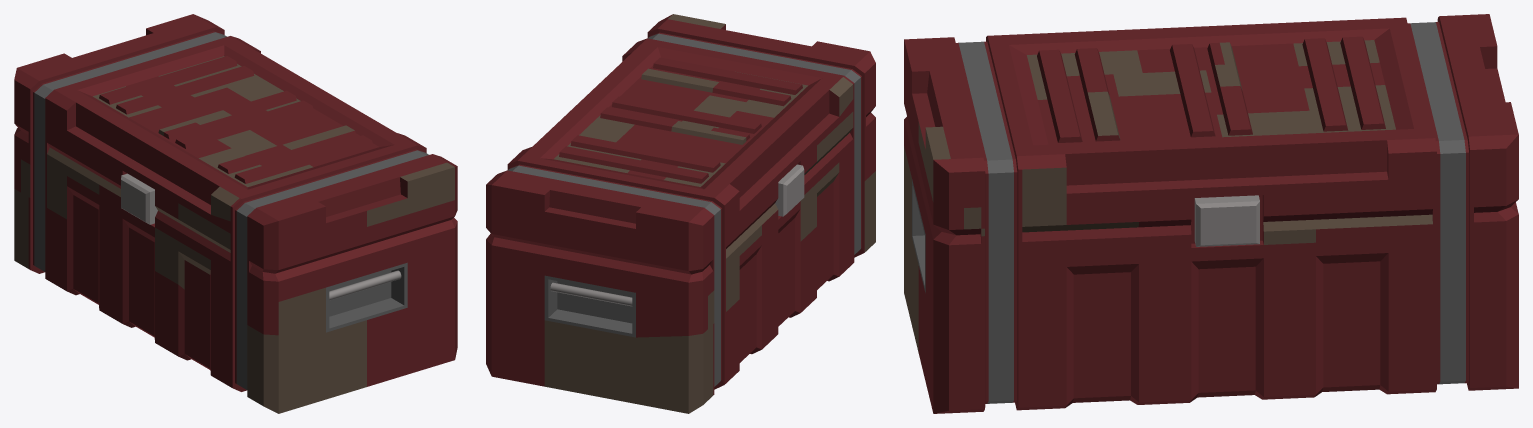
The model's file is chest_special_lev1.glb.
3 views of the same model, side by side, from view 1: azimuth 30°, elevation 25°; view 2: azimuth 150°, elevation 25°; view 3: azimuth 270°, elevation 25° (orthographic). The views are drawn at different scales.
Visible parts, largest first — view 1: chest_special_lev1; view 2: chest_special_lev1; view 3: chest_special_lev1.
Boxes of the visible parts, x1,y1,x2,y2 form: chest_special_lev1: (14, 14, 457, 413); chest_special_lev1: (486, 14, 875, 413); chest_special_lev1: (904, 14, 1518, 413).
Size of the model in its own units: 1.5 by 1.13 by 2.48.
1 material, 1 textured.
